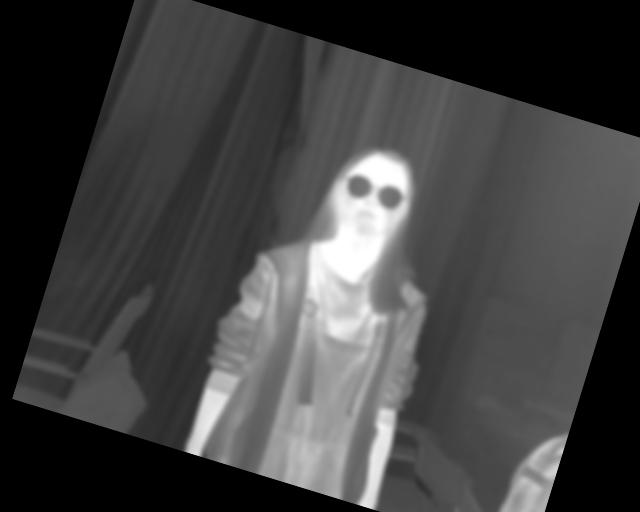face: (322, 137, 423, 248)
